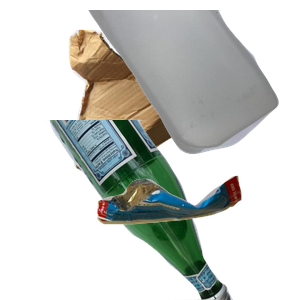cardboard: (66, 27, 242, 197)
glass: (37, 120, 262, 300)
plastic: (84, 10, 300, 157)
trash: (94, 173, 300, 300)
